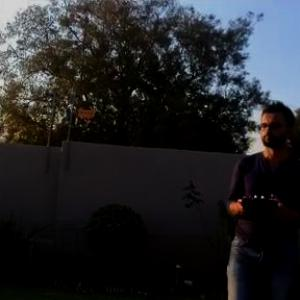follow: (218, 97, 299, 299)
